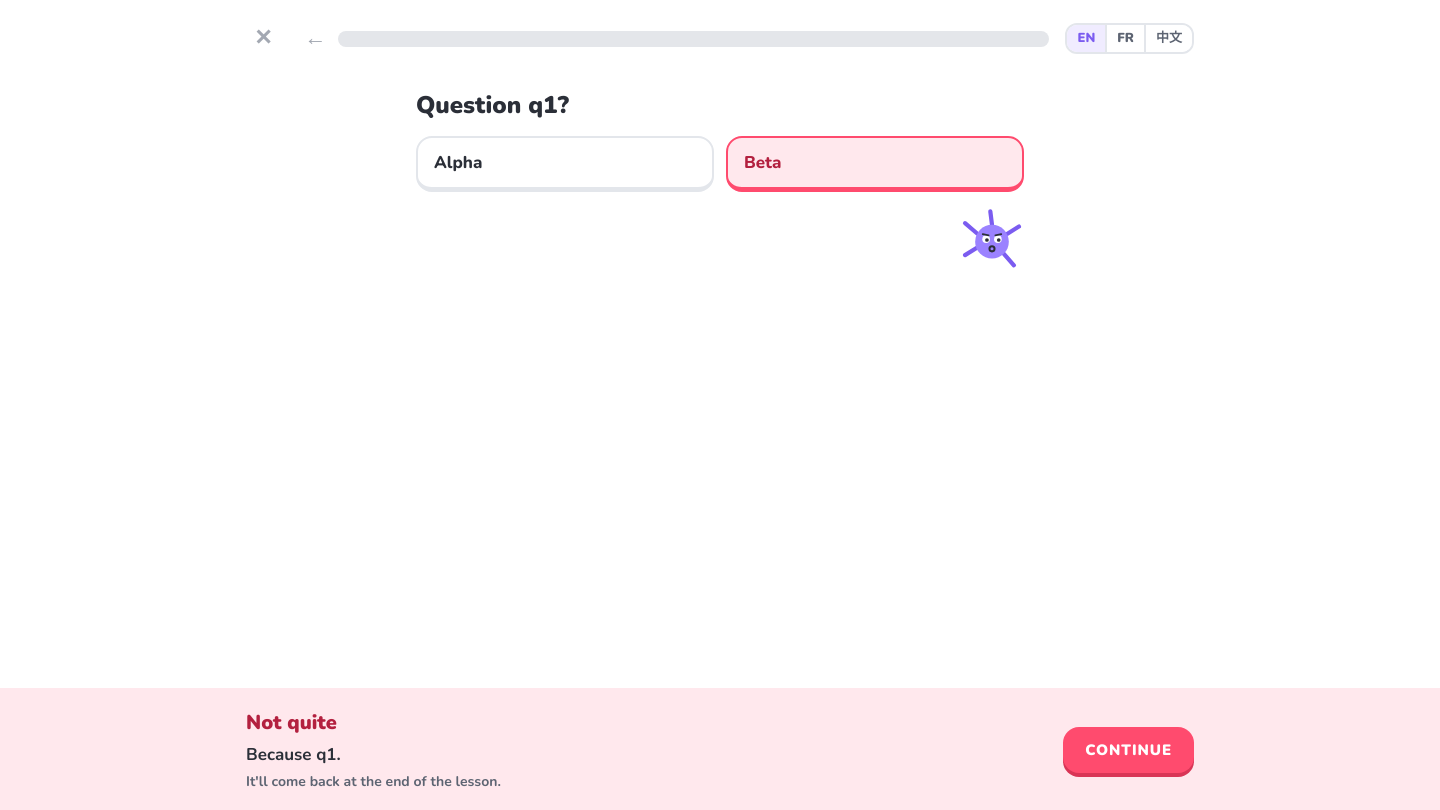
going back inside a lesson › a wrong then right answer shows as two pages
Earlier steps of the test are not shown.
Later steps or results of the test are not shown.
Click the button "Continue" at (1129, 750), box [1063,726,1194,773]
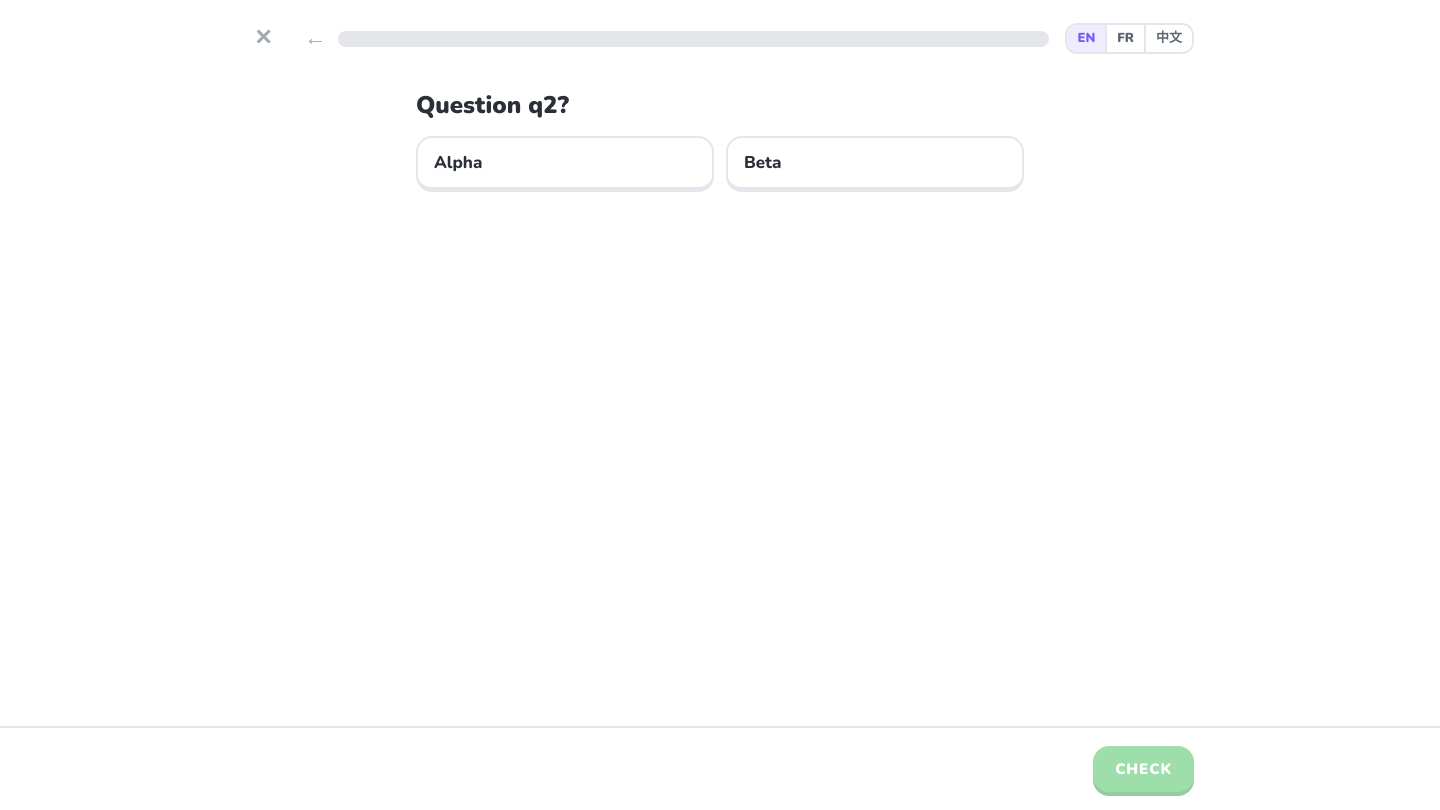
Click the button "Alpha" at (458, 162), box [416,136,714,192]
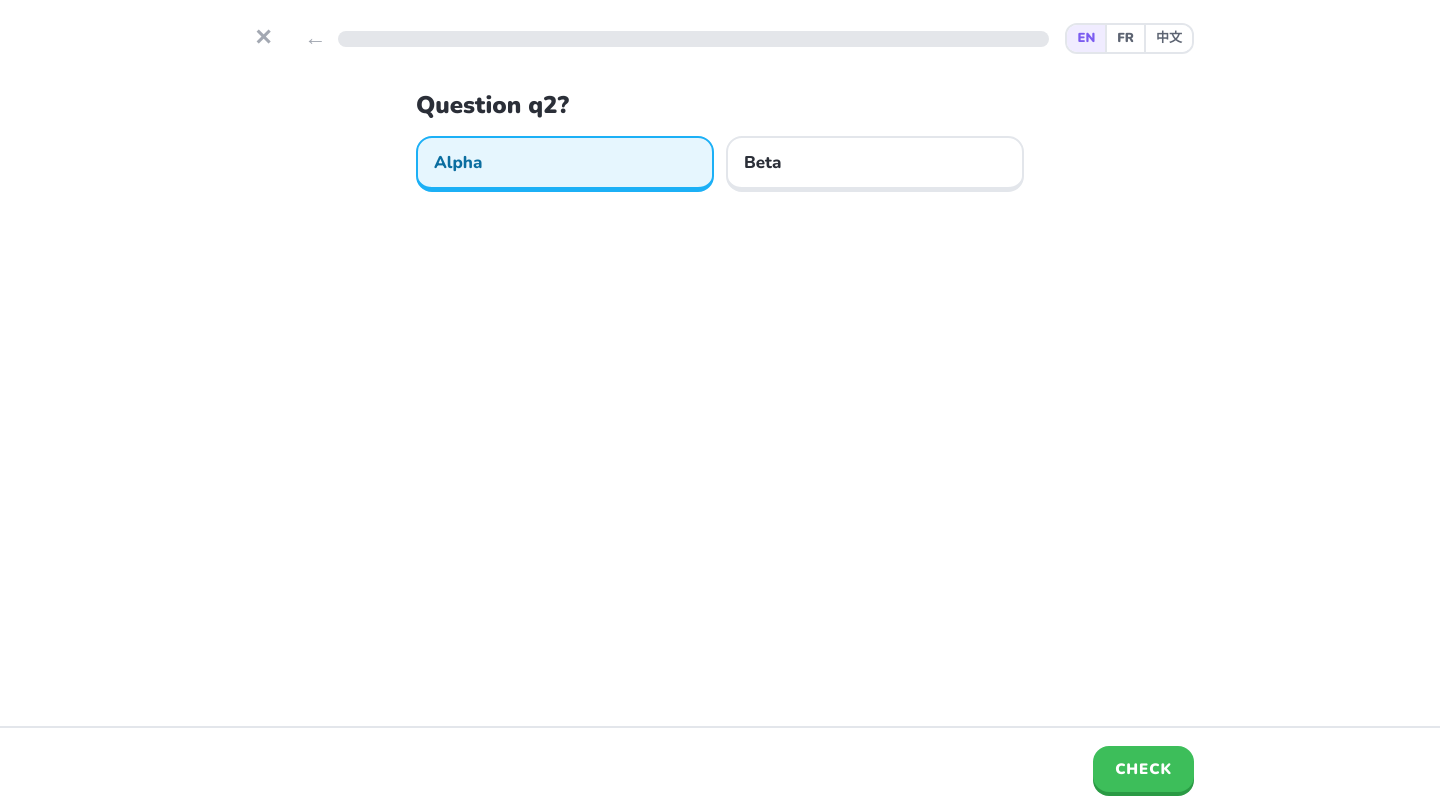
Click the button "Check" at (1144, 769), box [1093,746,1194,792]
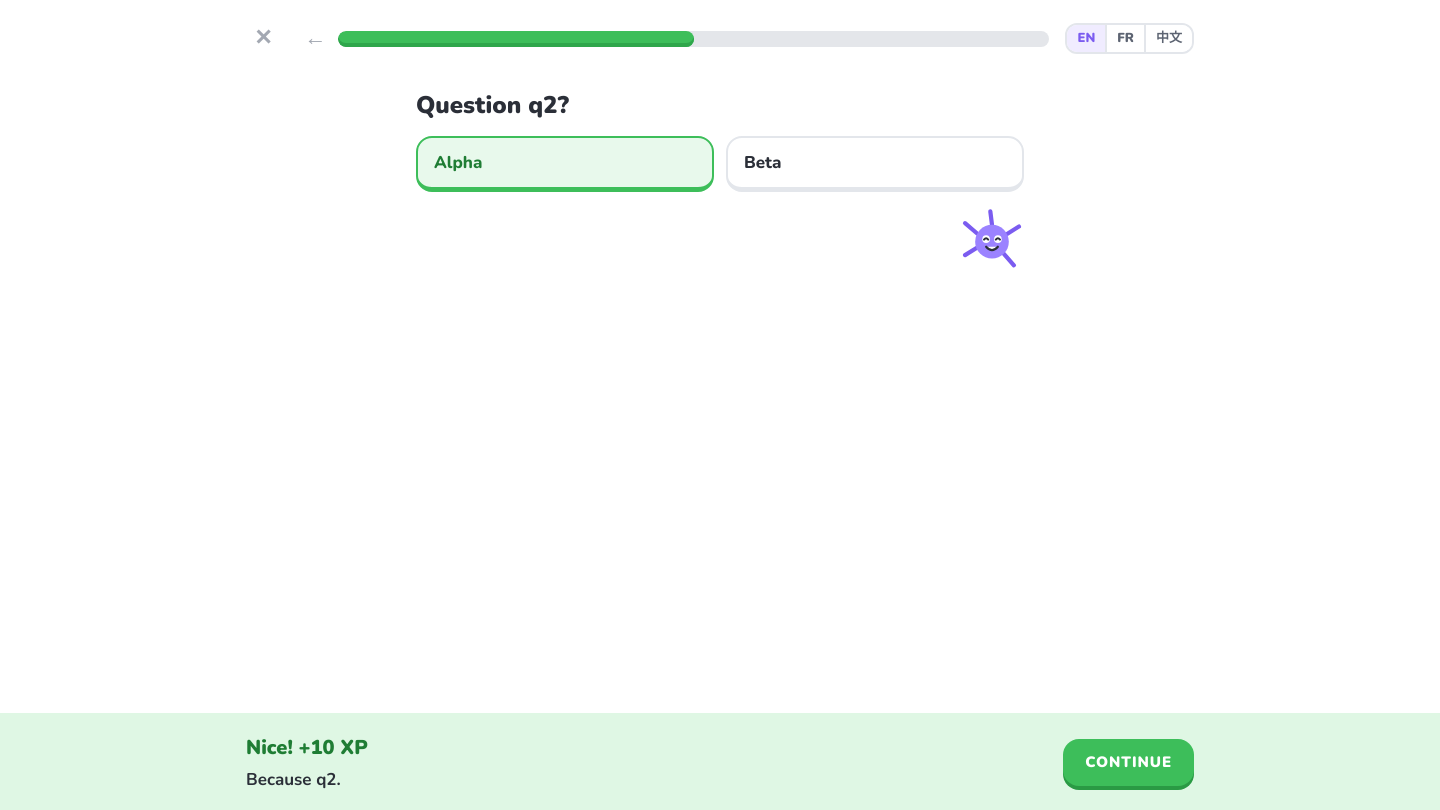
Click the button "Continue" at (1129, 762), box [1063,739,1194,786]
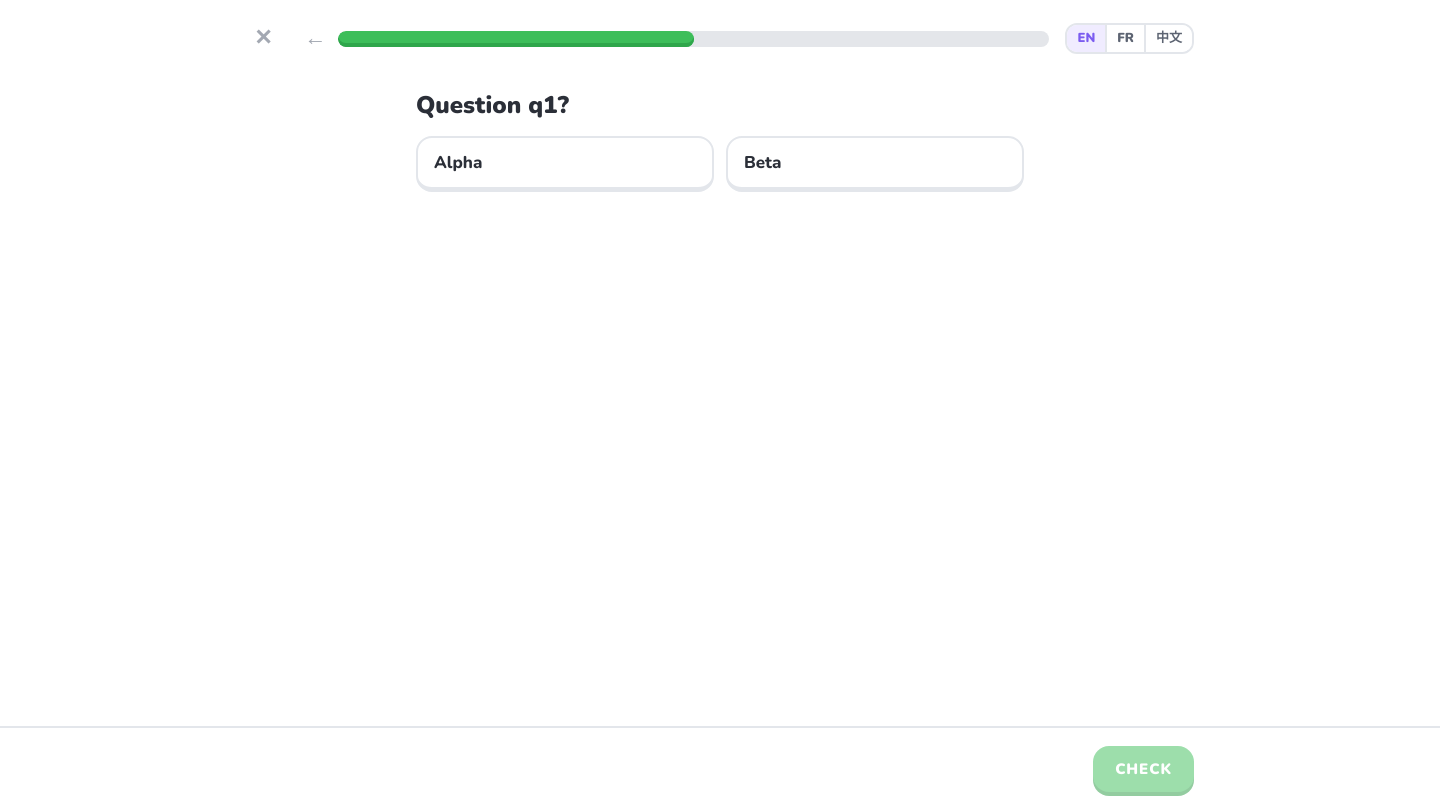
Check: the heading "Question q1?" is shown, box [416,89,569,121]
Click the button named "Go back" at (315, 38), box [296,18,334,59]
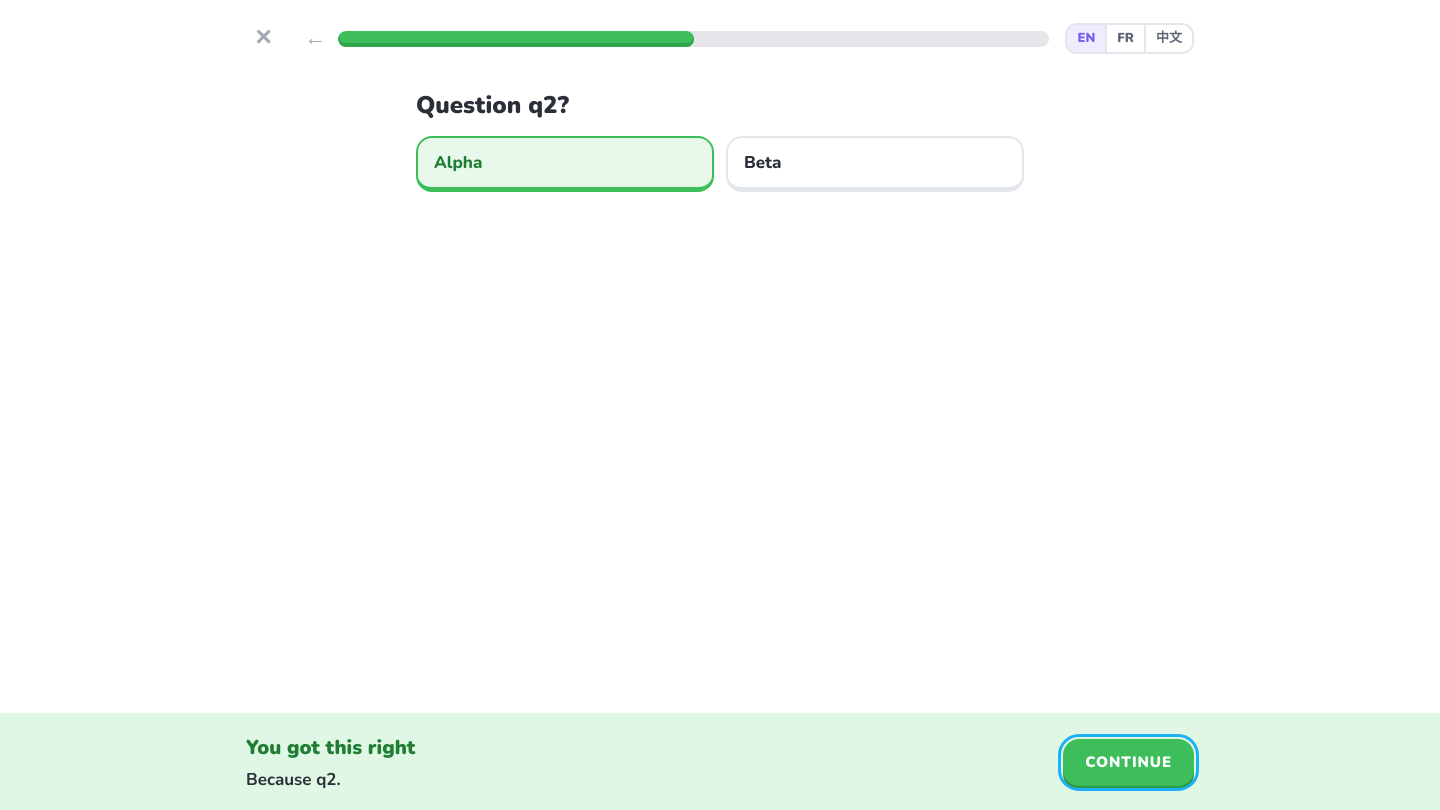
Check: the heading "Question q2?" is shown, box [416,89,569,121]
Click the button named "Go back" at (315, 38), box [296,18,334,59]
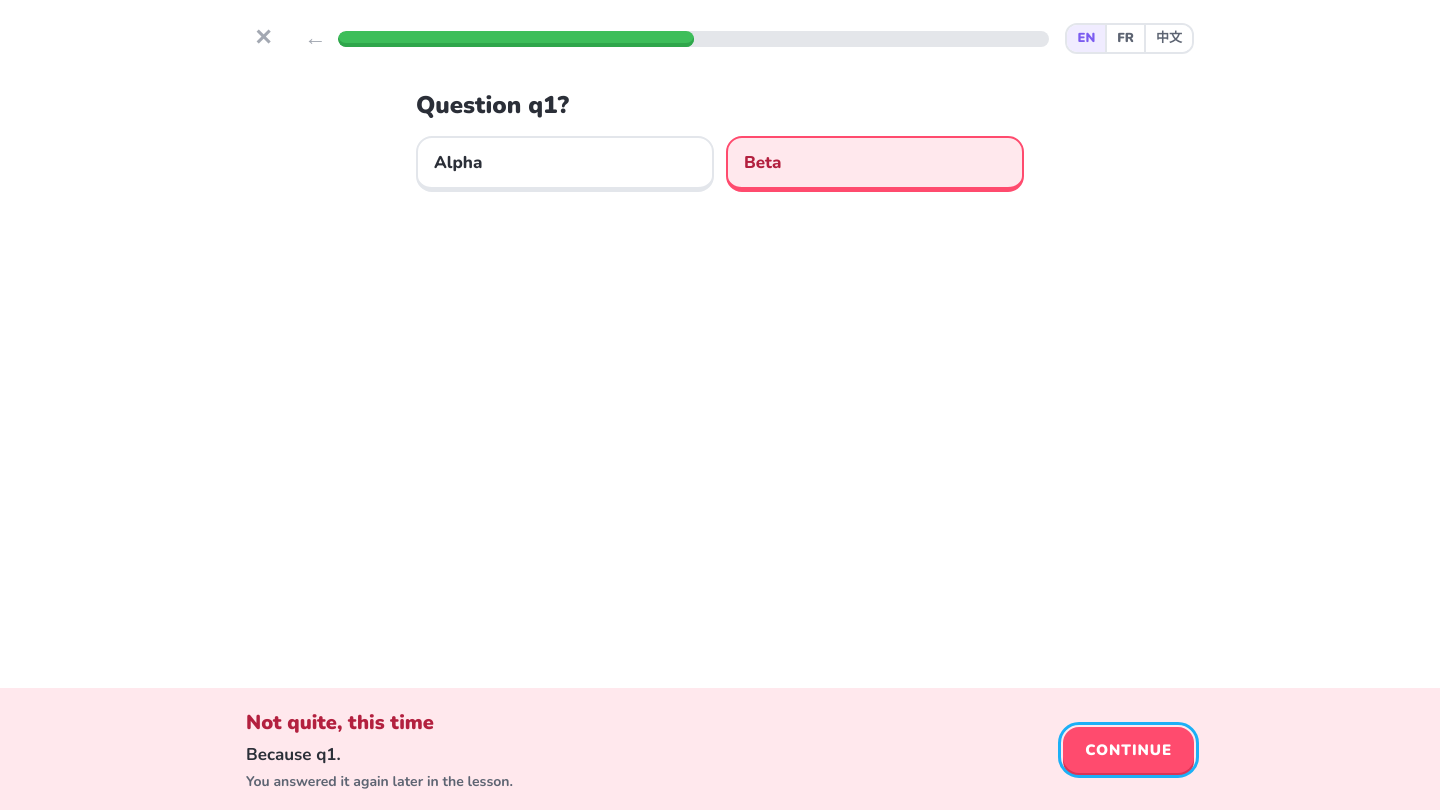
Check: the button "Beta" is disabled, box [726,136,1024,192]
Check: the text "Not quite, this time" is shown, box [246,708,434,736]
Check: the text "You answered it again later in the lesson." is shown, box [246,772,513,791]
